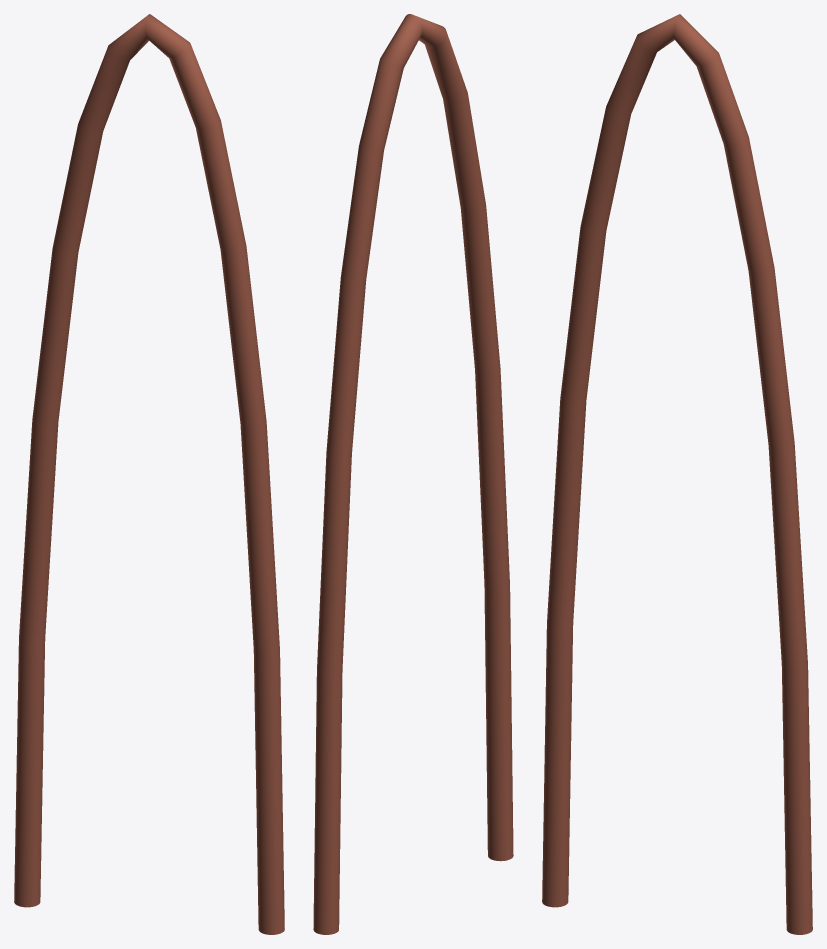
File: spike4.gltf
The picture shows the model from 3 angles, left to right: view 1: azimuth 90°, elevation 25°; view 2: azimuth 150°, elevation 25°; view 3: azimuth 270°, elevation 25°; orthographic projection. The views are drawn at different scales.
Visible parts, largest first — view 1: spike4; view 2: spike4; view 3: spike4.
Boxes of the visible parts, x1,y1,x2,y2 form: spike4: (14, 14, 284, 934); spike4: (313, 14, 513, 934); spike4: (542, 14, 812, 934).
Bounding box in the file's own units: 0.1086 × 1.18 × 0.321.
